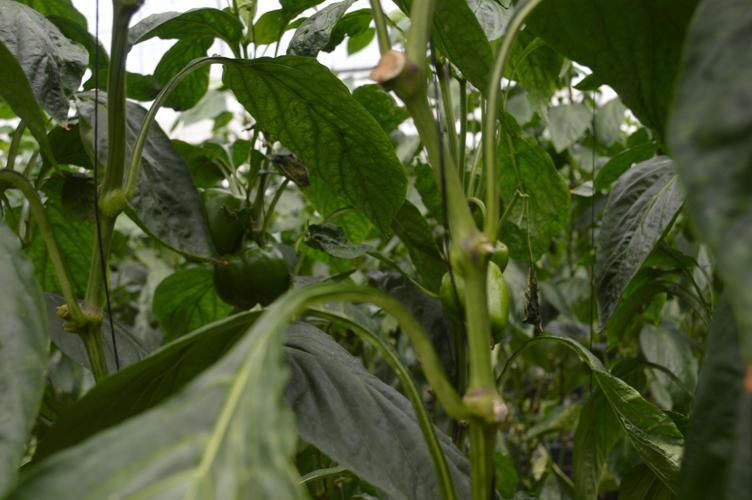BellPepper: (439, 269, 508, 342), (214, 250, 295, 308), (200, 189, 252, 254), (473, 230, 514, 265)
